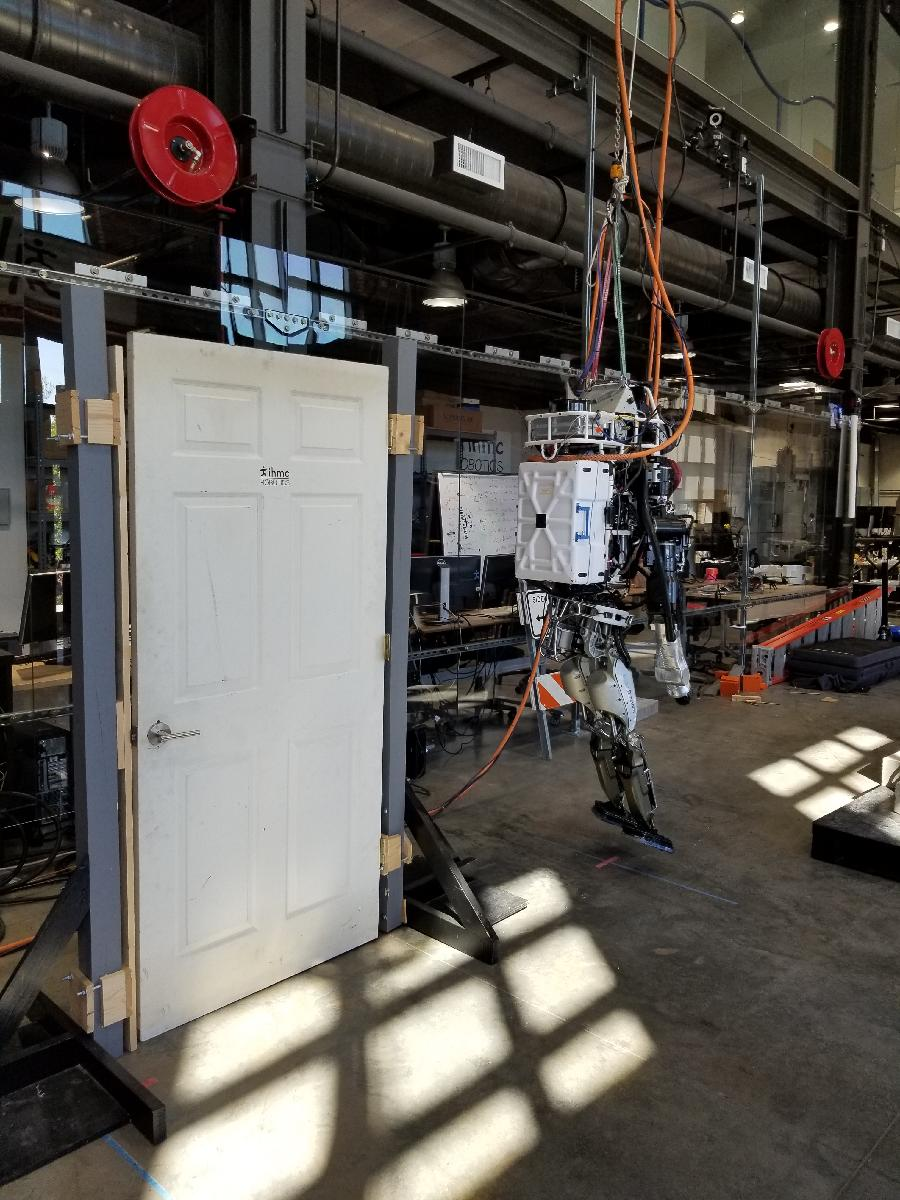door: (121, 328, 393, 1050)
doorHandle: (145, 716, 204, 757)
